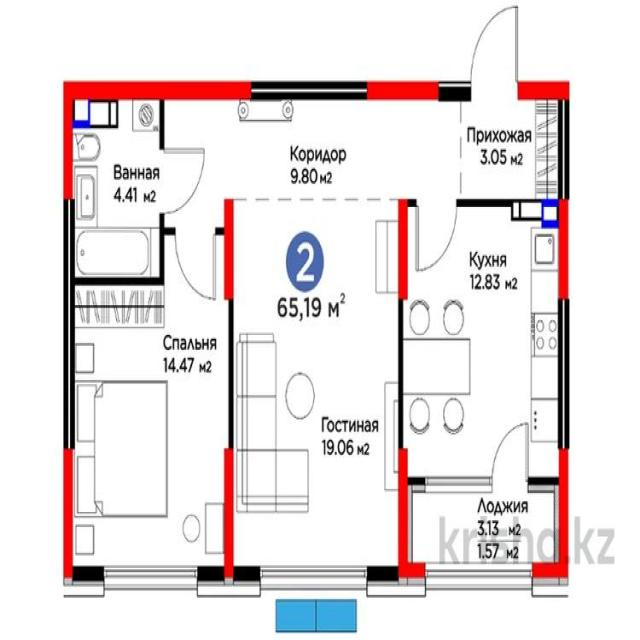balcony: (402, 482, 564, 572)
bathroom: (70, 90, 160, 283)
hallway: (162, 93, 460, 203), (454, 95, 565, 206)
kitchen: (403, 205, 566, 473)
living_room: (229, 198, 401, 572), (69, 282, 231, 574)
